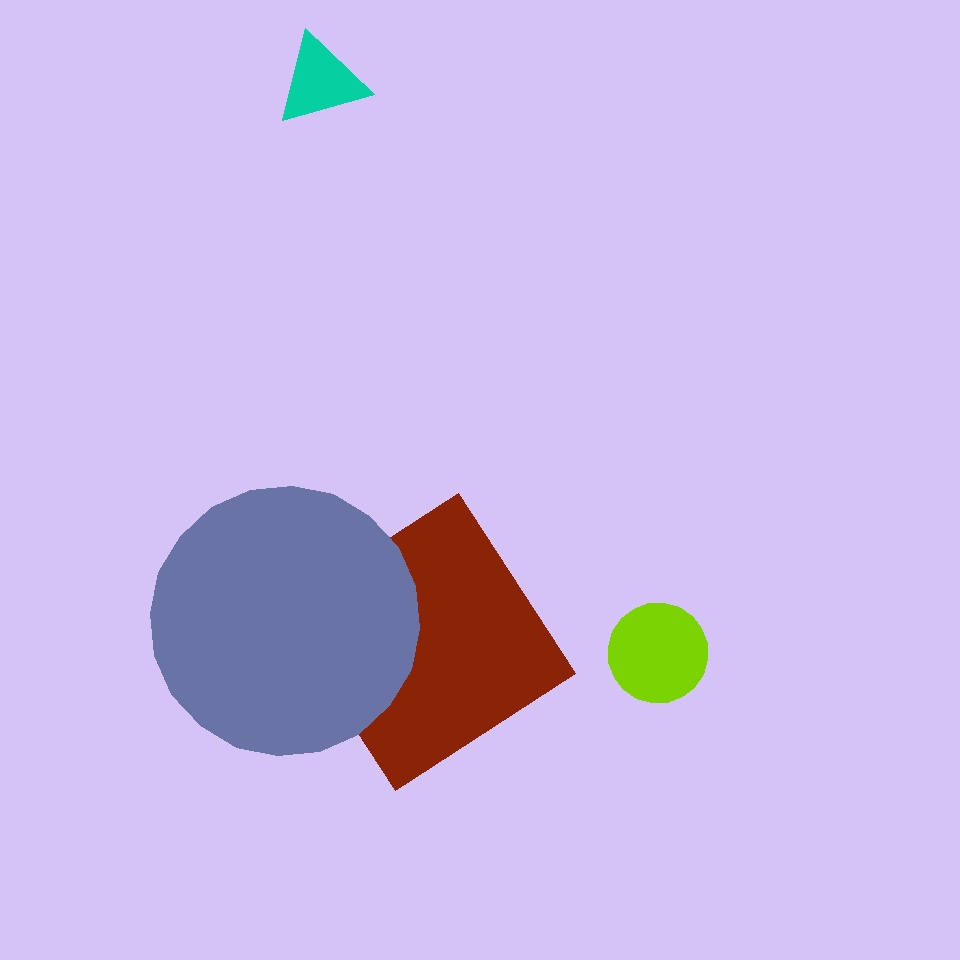circle: (373, 169, 640, 415), (133, 20, 358, 256), (275, 35, 367, 127)
square: (278, 494, 576, 790)
triangle: (150, 486, 420, 756), (608, 604, 708, 702)
